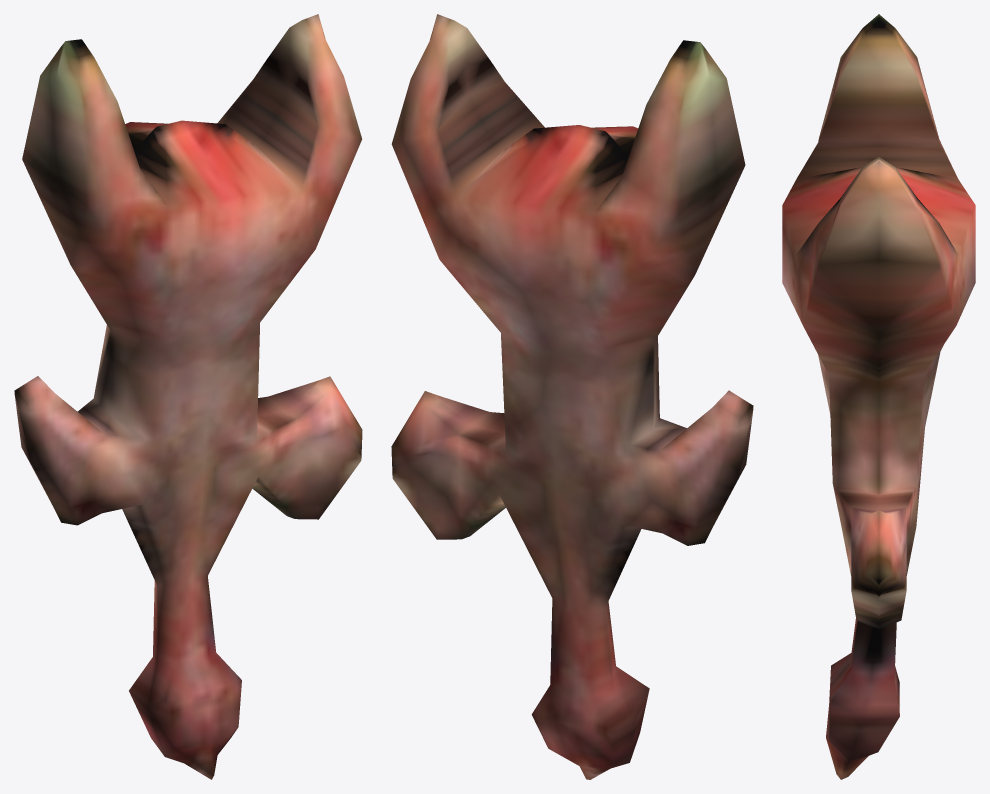
File: dead_chicken_1.FBX
3 renders of one model, left to right at view 1: azimuth 30°, elevation 25°; view 2: azimuth 150°, elevation 25°; view 3: azimuth 270°, elevation 25°, orthographic. The views are drawn at different scales.
Parts seen in each view (by area): view 1: dead_chicken_1; view 2: dead_chicken_1; view 3: dead_chicken_1.
Boxes of the visible parts, bbox=[...] form: dead_chicken_1: bbox=[14, 14, 362, 779]; dead_chicken_1: bbox=[391, 14, 753, 779]; dead_chicken_1: bbox=[782, 14, 975, 779].
Bounding box in the file's own units: 24.9 × 51.67 × 12.78.
